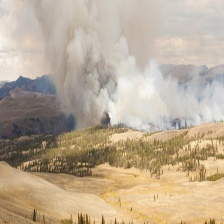smoke: (29, 2, 224, 131)
